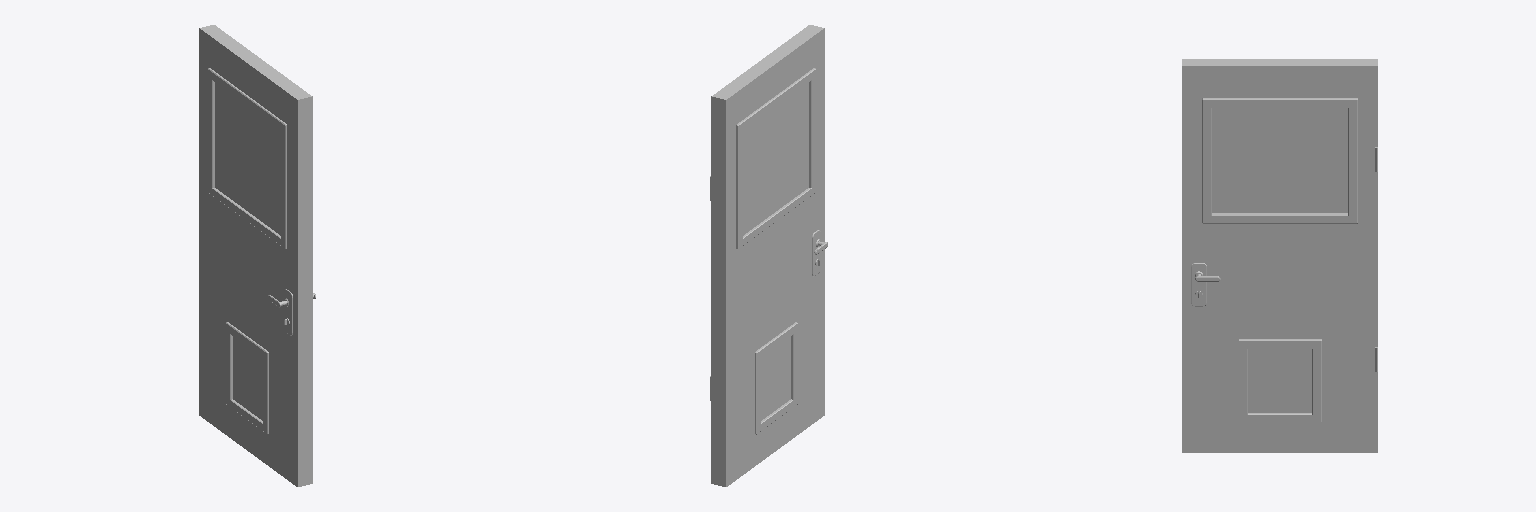
The model's file is door.obj.
3 views of the same model, side by side, from view 1: azimuth 30°, elevation 25°; view 2: azimuth 150°, elevation 25°; view 3: azimuth 270°, elevation 25° (orthographic).
Visible parts, largest first — view 1: Symmetry; view 2: Symmetry; view 3: Symmetry.
Boxes of the visible parts, box(x1,y1,x2,y2) form: Symmetry: box(199, 25, 315, 486); Symmetry: box(710, 25, 827, 486); Symmetry: box(1182, 59, 1377, 452).
Size of the model in its own units: 0.0466 by 0.4711 by 0.2169.